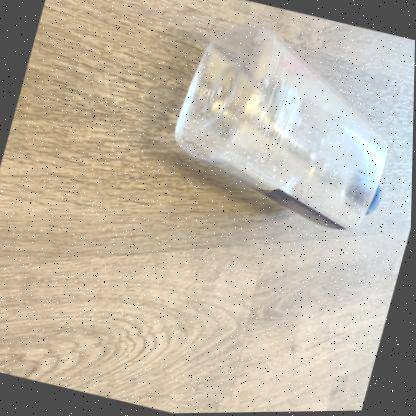Waste: (176, 26, 388, 230)
